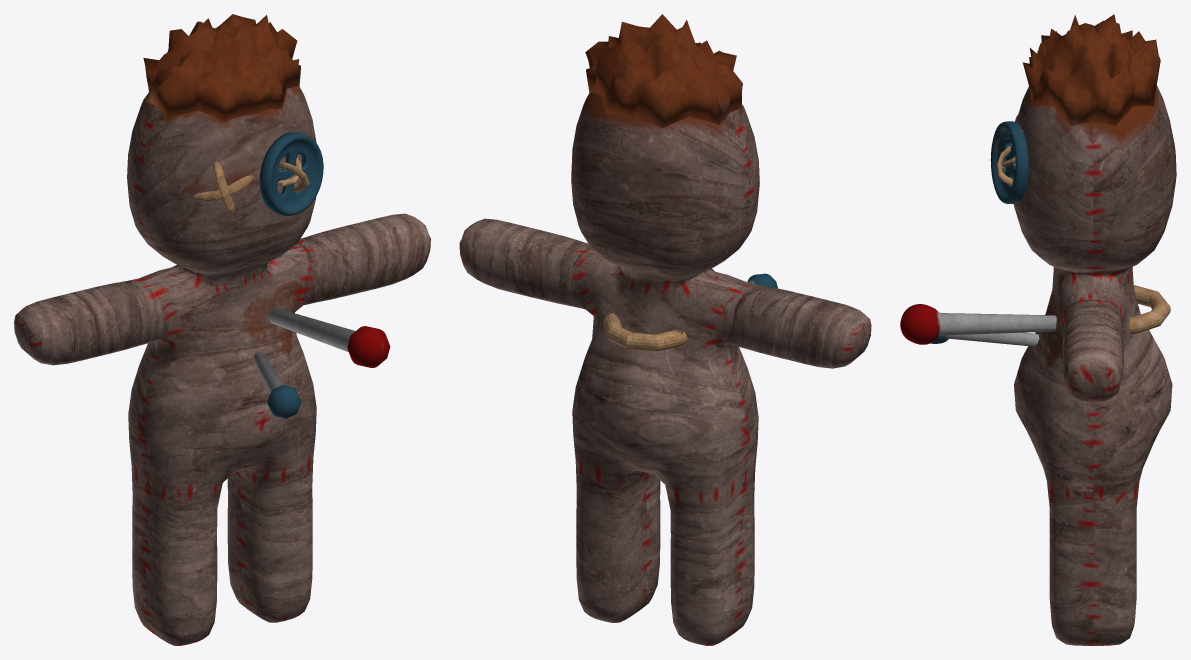
File: SM_VooduToy.fbx
3 views of the same model, side by side, from view 1: azimuth 30°, elevation 25°; view 2: azimuth 150°, elevation 25°; view 3: azimuth 270°, elevation 25° (orthographic).
Visible parts, largest first — view 1: SM_VooduToy; view 2: SM_VooduToy; view 3: SM_VooduToy.
Boxes of the visible parts, x1=… form: SM_VooduToy: x1=14, y1=14, x2=430, y2=645; SM_VooduToy: x1=459, y1=14, x2=871, y2=645; SM_VooduToy: x1=900, y1=14, x2=1176, y2=645.
Size of the model in its own units: 45.39 by 27.42 by 65.69.
1 material, 1 textured.
